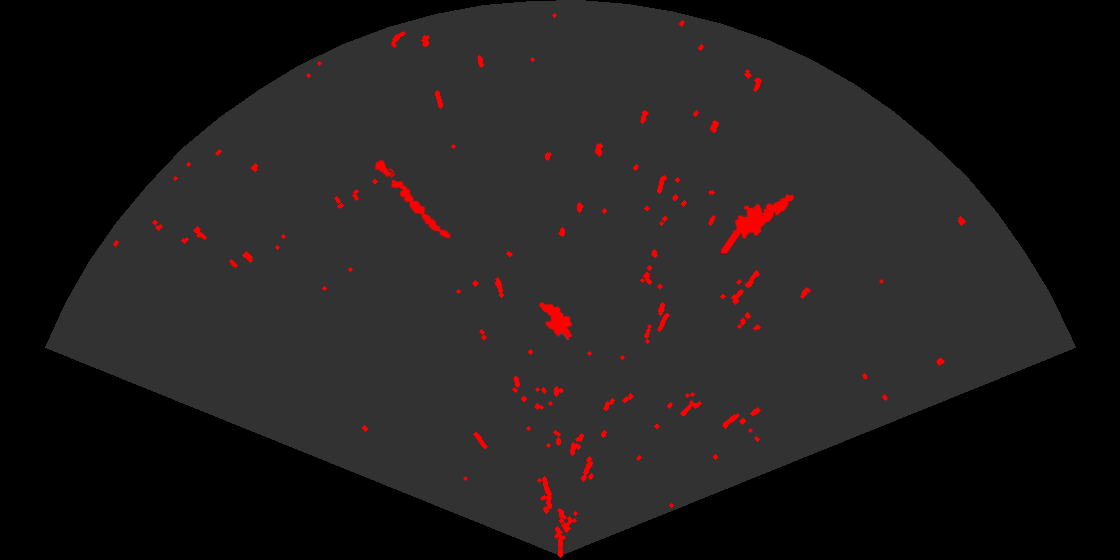AUV: (538, 301, 574, 342)
chain: (373, 158, 452, 240)
frogman: (721, 193, 796, 253)
